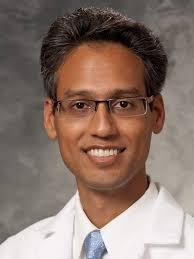normalEye: (61, 91, 143, 119)
normalMouth: (75, 141, 130, 167)
